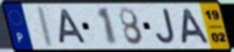1: (96, 6, 119, 47)
8: (118, 7, 145, 47)
A: (181, 8, 212, 45), (59, 8, 89, 45)
I: (37, 5, 56, 49)
J: (154, 8, 177, 46)
